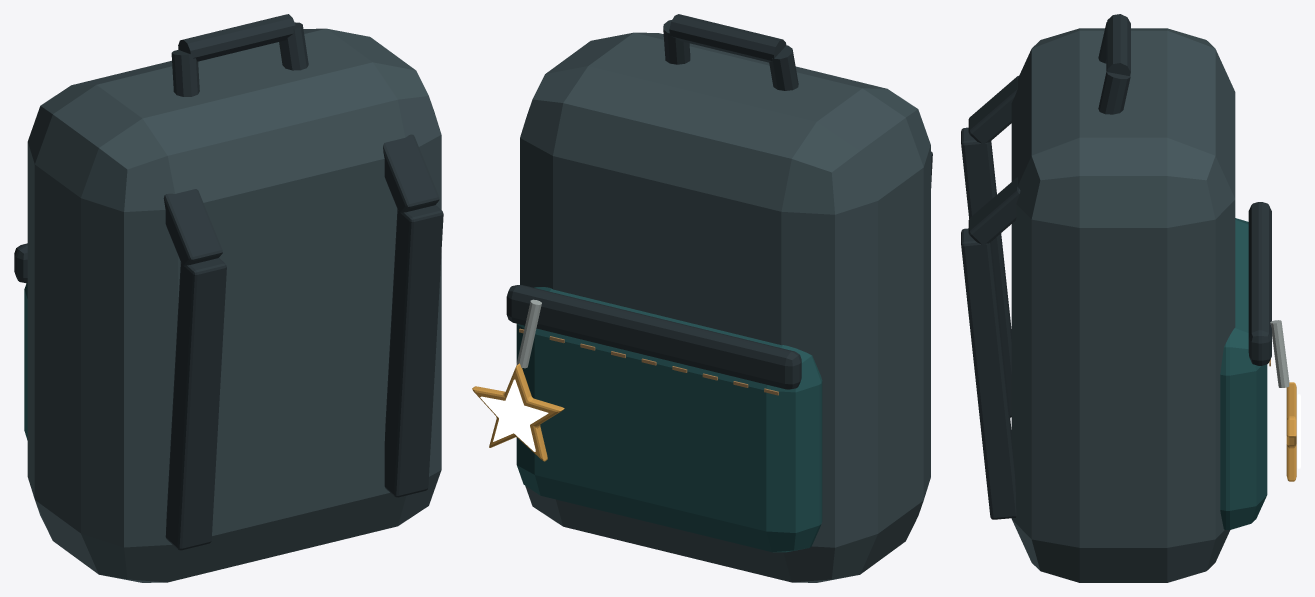
File: TasRaka.fbx
The picture shows the model from 3 angles, left to right: view 1: azimuth 30°, elevation 25°; view 2: azimuth 150°, elevation 25°; view 3: azimuth 270°, elevation 25°; orthographic projection. The views are drawn at different scales.
Parts seen in each view (by area): view 1: TasRaka; view 2: TasRaka; view 3: TasRaka.
Boxes of the visible parts, x1,y1,x2,y2 form: TasRaka: [14, 14, 443, 582]; TasRaka: [472, 14, 932, 582]; TasRaka: [961, 14, 1300, 582].
Bounding box in the file's own units: 47 × 65.08 × 41.
